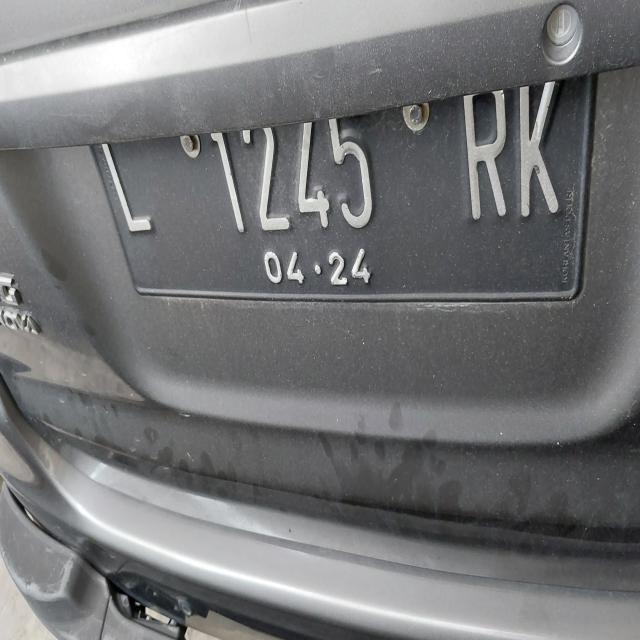1: (200, 108, 258, 263)
2: (228, 104, 300, 243)
4: (278, 95, 342, 248)
5: (318, 85, 388, 239)
K: (506, 64, 574, 242)
L: (87, 120, 167, 262)
R: (447, 69, 516, 249)
